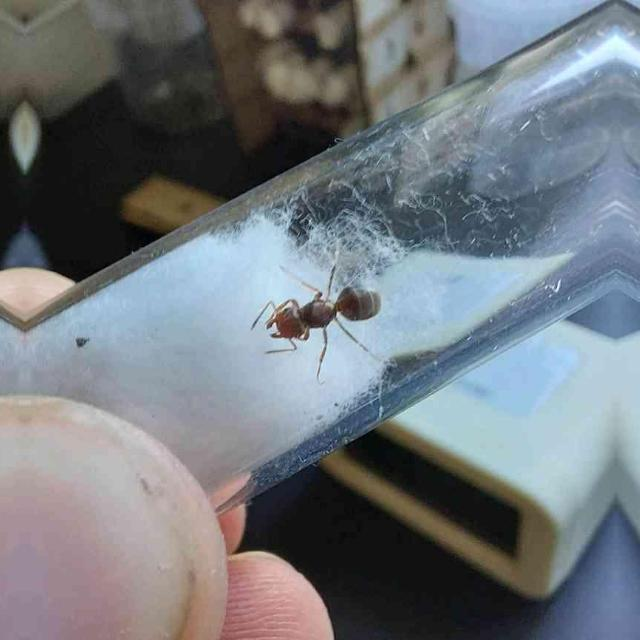Lasius: (252, 260, 388, 364)
